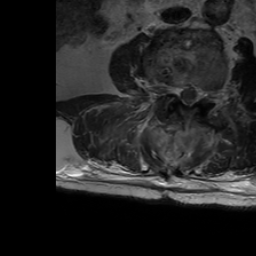CCS_normal: (184, 75, 193, 116)
LFS_normal: (202, 78, 211, 107)
LLS_normal: (193, 76, 202, 109)
RFS_stenosis: (165, 75, 176, 102)
RLS_normal: (175, 77, 184, 106)
